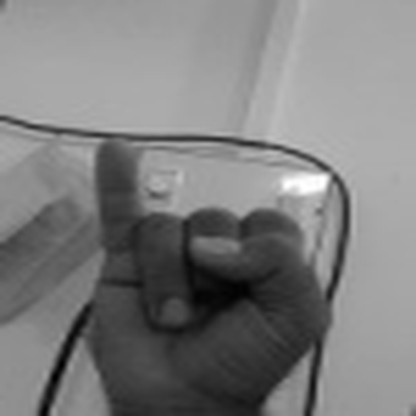i: (76, 111, 351, 413)
